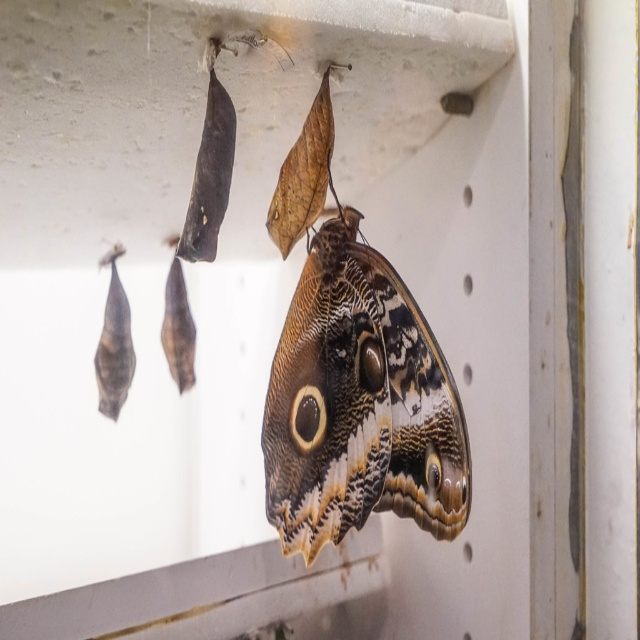Moths and butterflies: (258, 143, 474, 572)
